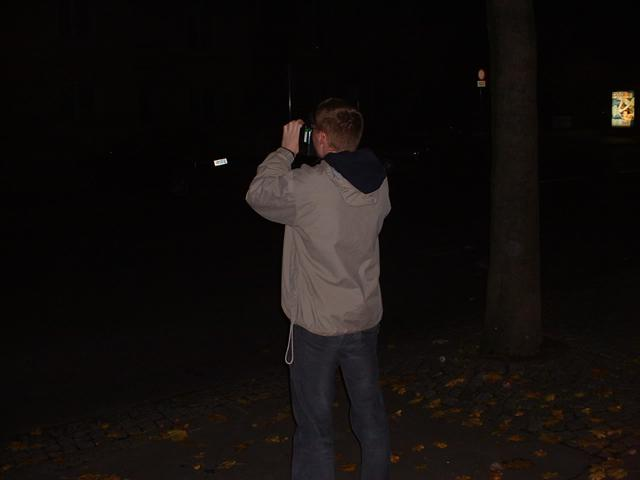Person: (240, 92, 401, 480)
